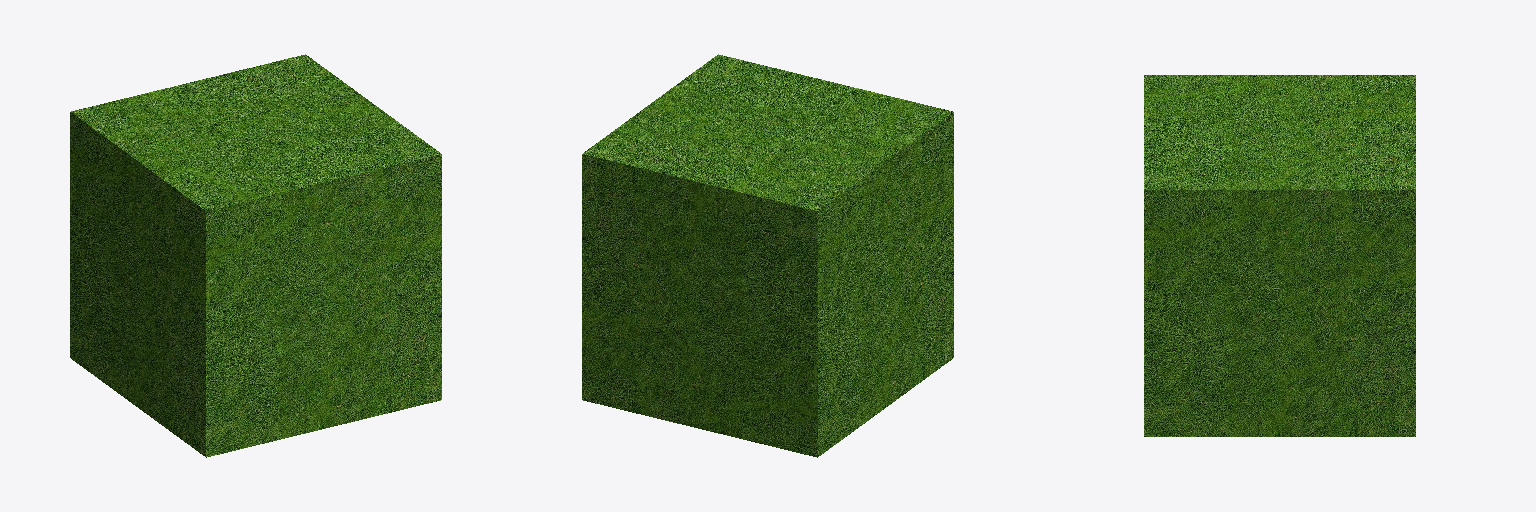
3 renders of one model, left to right at view 1: azimuth 30°, elevation 25°; view 2: azimuth 150°, elevation 25°; view 3: azimuth 270°, elevation 25°, orthographic.
Parts seen in each view (by area): view 1: Cube; view 2: Cube; view 3: Cube.
Boxes of the visible parts, box(x1,y1,x2,y2) form: Cube: box(70, 54, 441, 457); Cube: box(582, 54, 953, 457); Cube: box(1144, 75, 1415, 436).
Size of the model in its own units: 0.1 by 0.1 by 0.1.
1 materials, 1 textured.